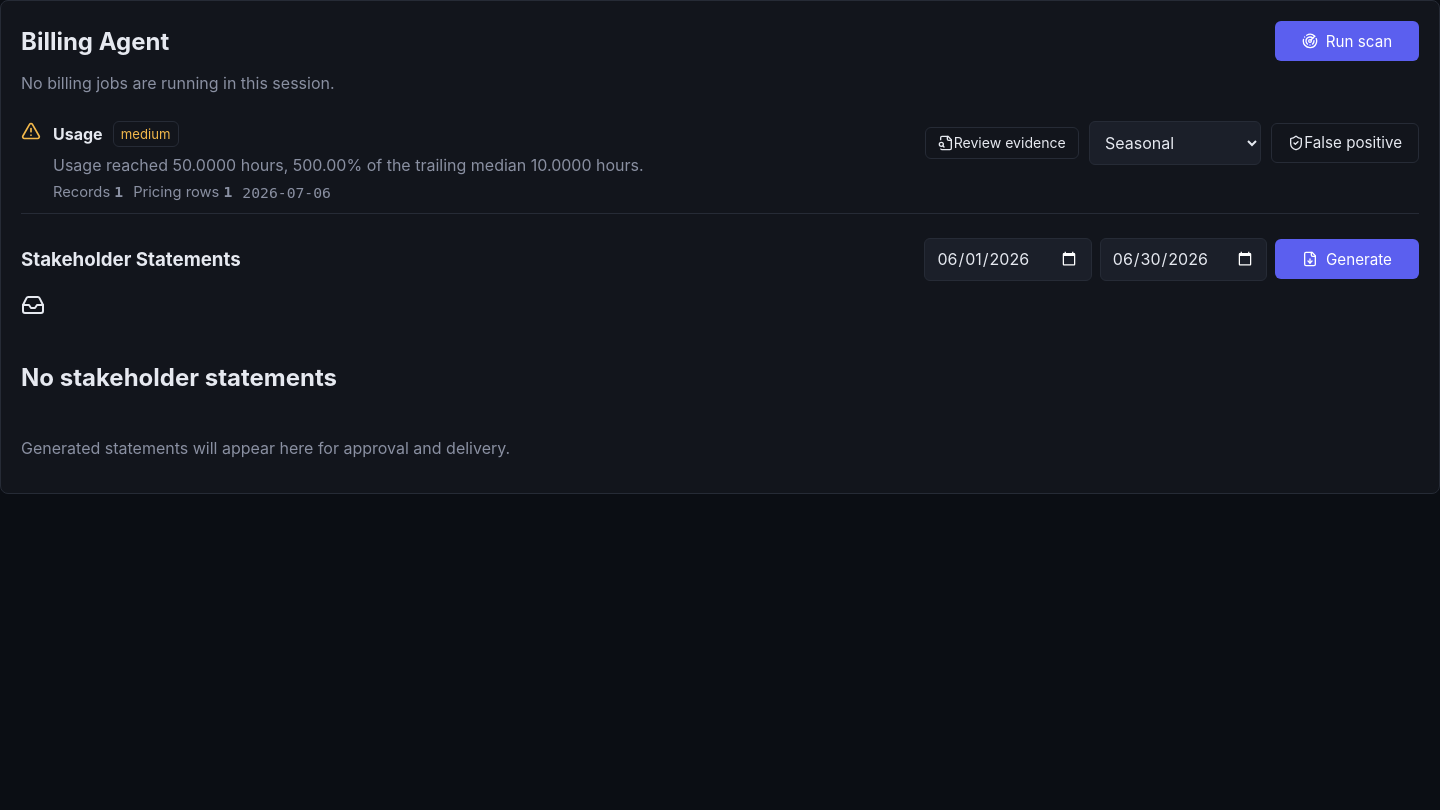
BillingAgentConsole › lets analysts scan and mark anomalies as false positive with a reason code
This screenshot has width=1440, height=810.
Click the button "Run scan". click: (1347, 41)
box: [1275, 21, 1419, 61]
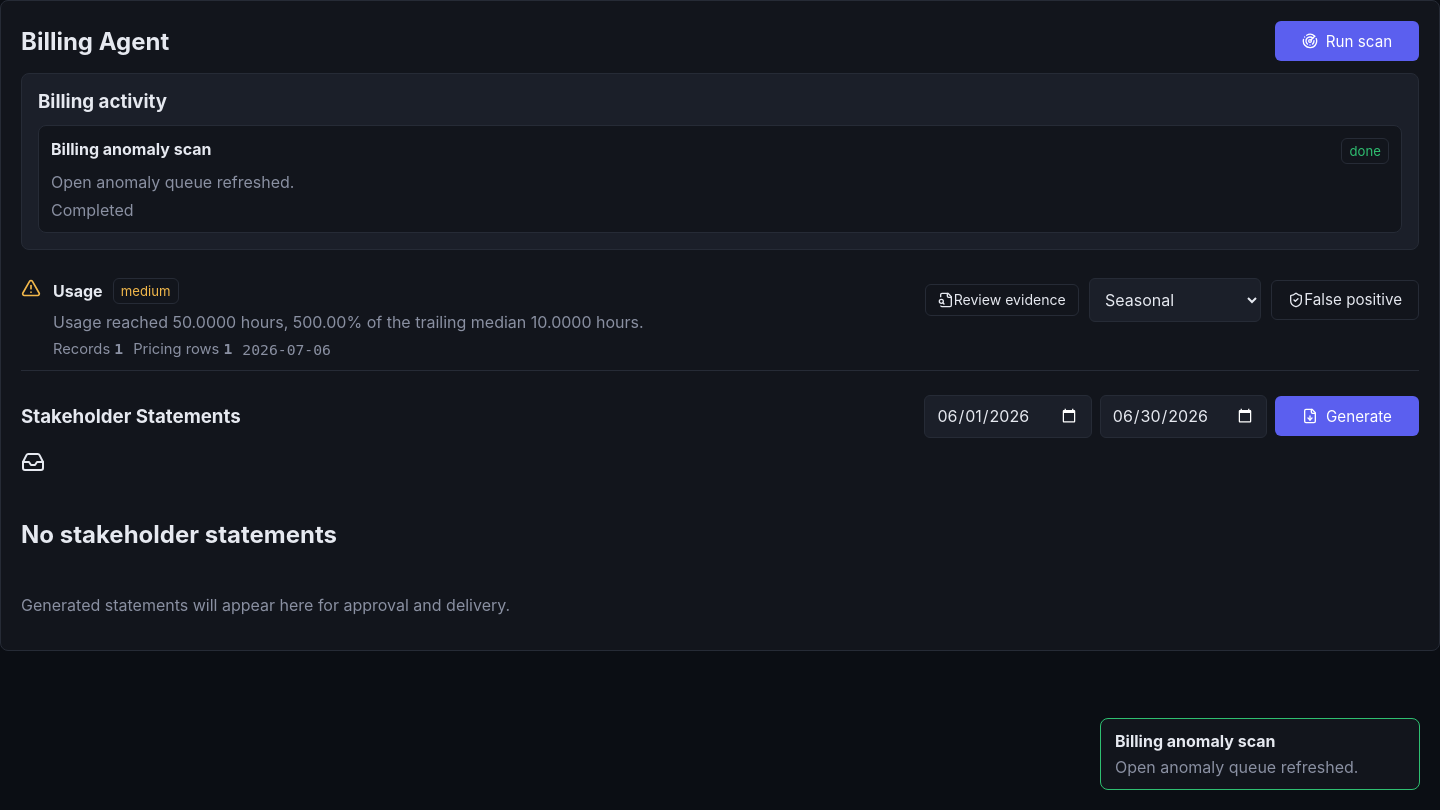
Select "Planned Change" in the dropdown named "False positive reason for Usage". click: (1175, 300)
box: [1089, 278, 1261, 322]
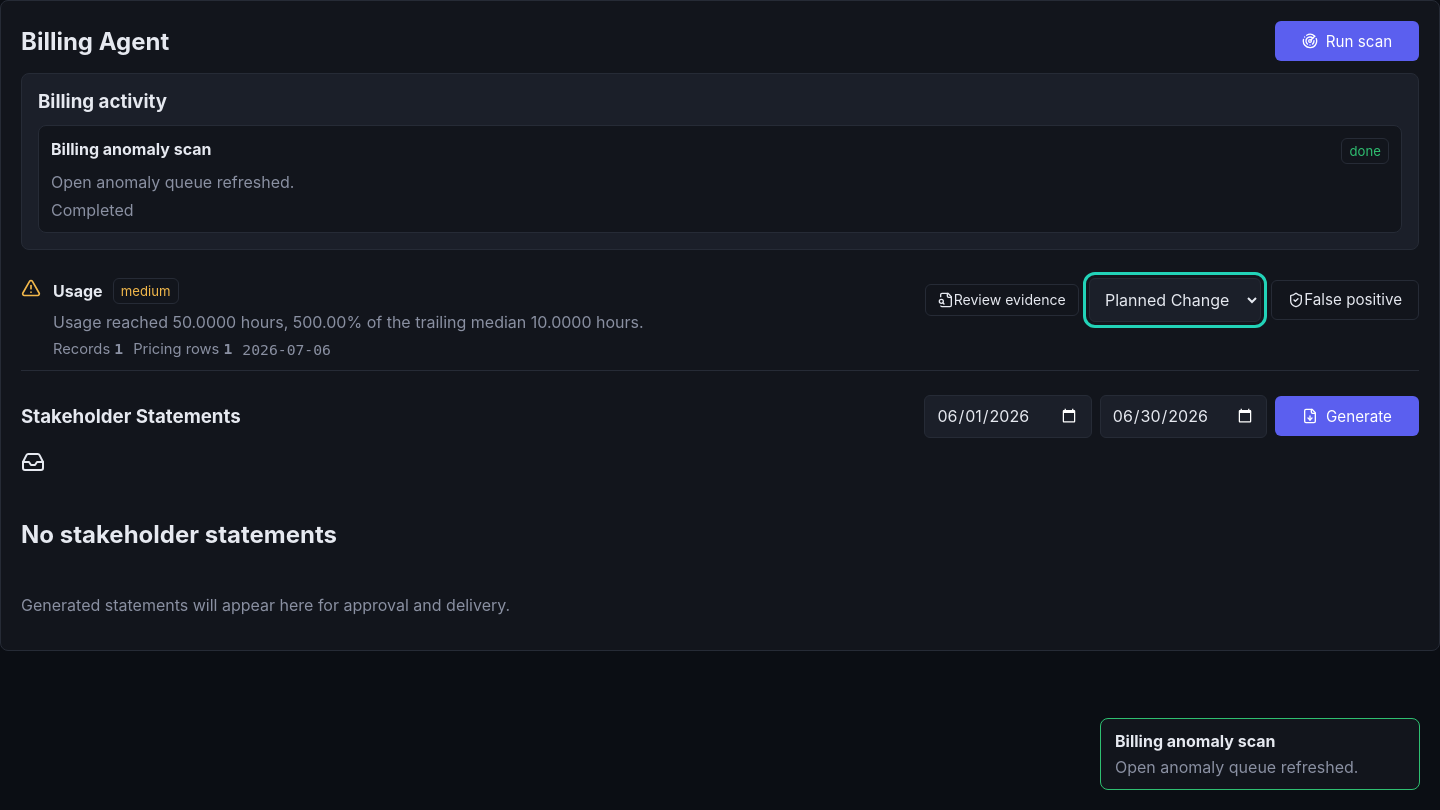
Click the button "False positive". click: (1345, 300)
box: [1271, 280, 1419, 320]
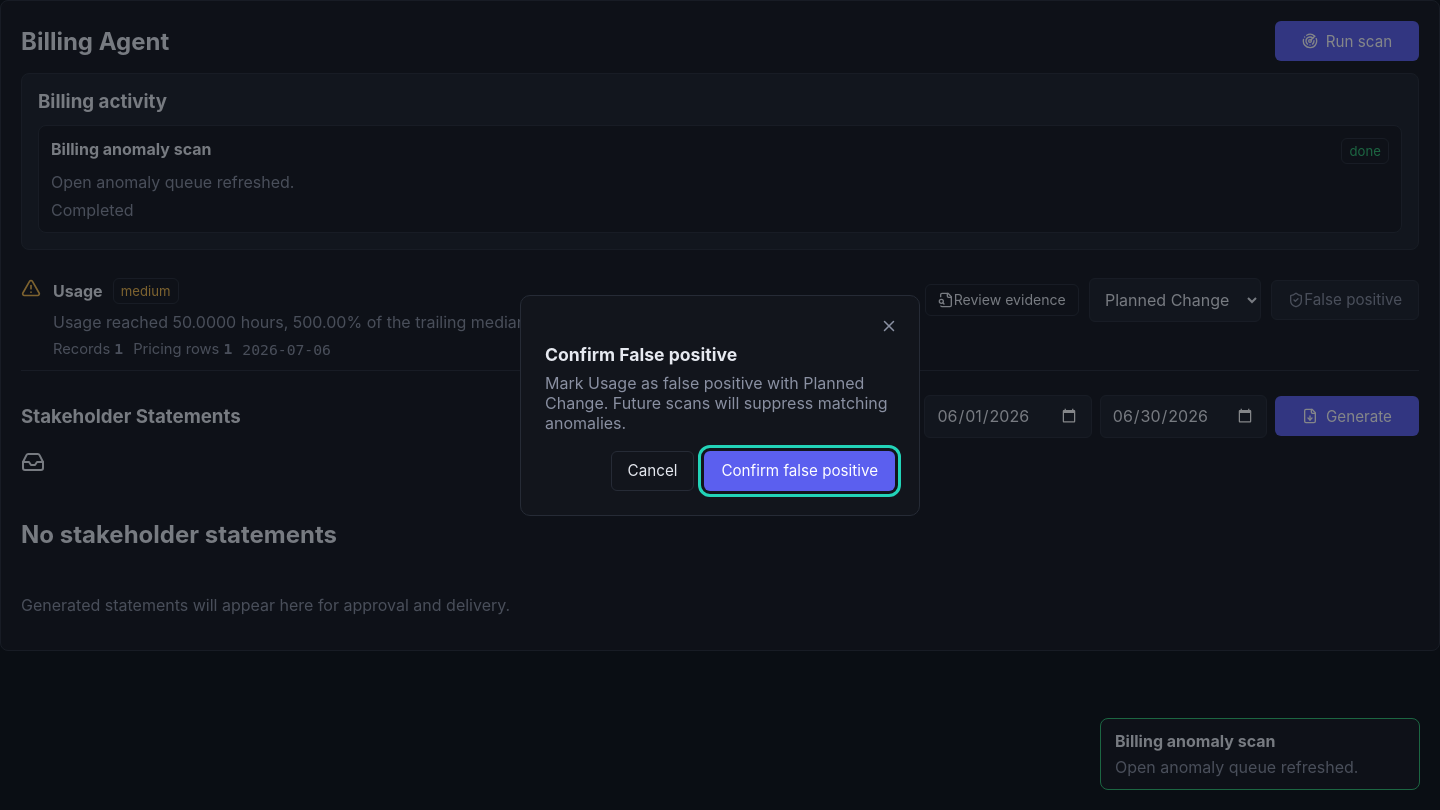
Check: the dialog "Confirm False positive" shows "Mark Usage as false positive with Planned Change. Future scans will suppress matching anomalies.", box [545, 372, 888, 432]
Click the button "Confirm false positive". click: (800, 470)
box: [704, 450, 895, 490]
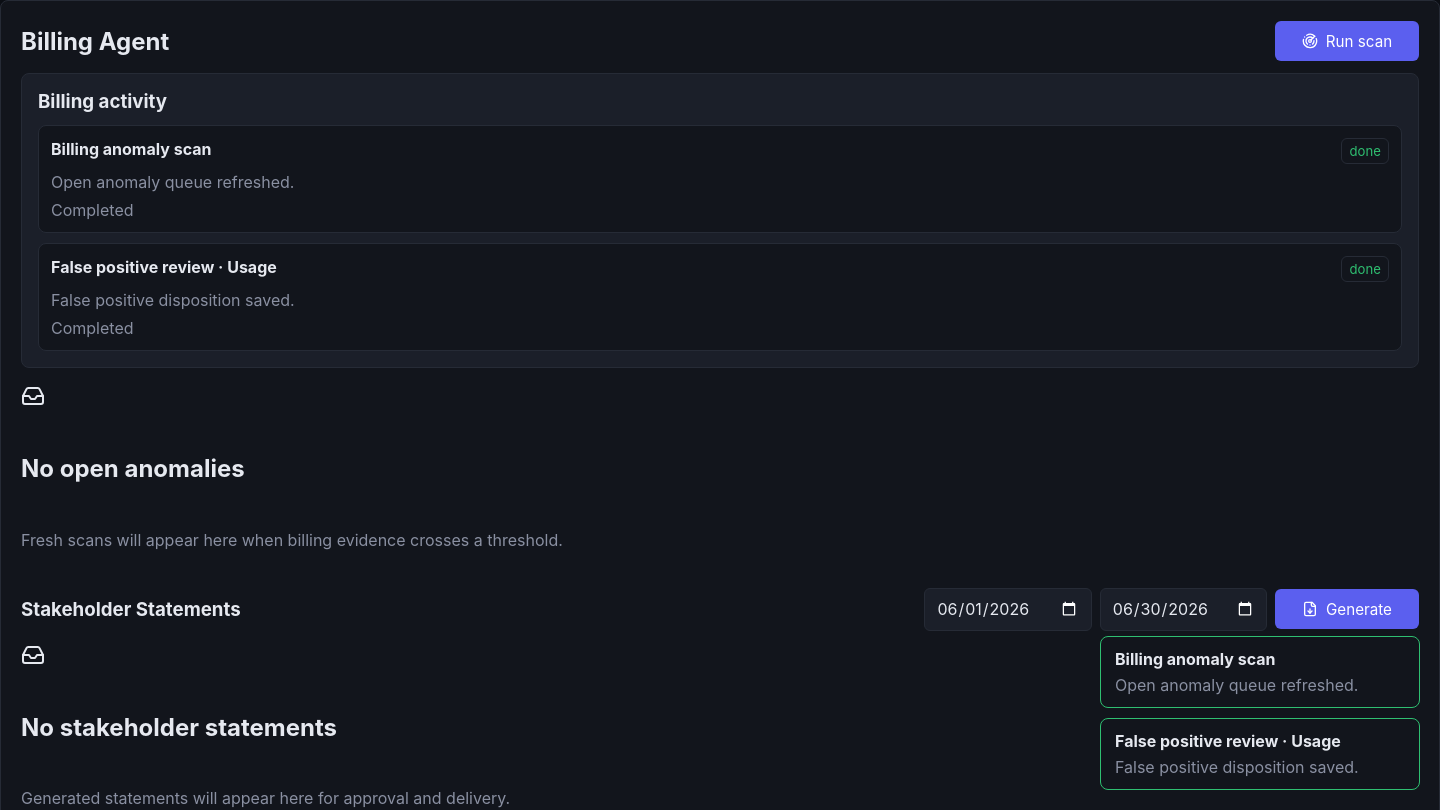
Check: the heading "No open anomalies" is shown, box [21, 454, 245, 483]
